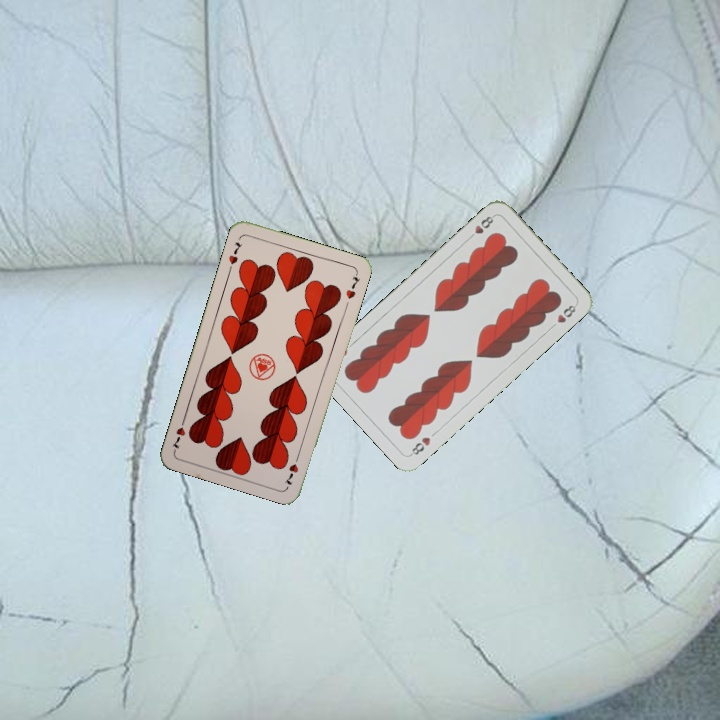H7: (281, 449, 302, 487), (225, 238, 245, 267)
H8: (464, 211, 497, 242), (406, 433, 433, 458)
